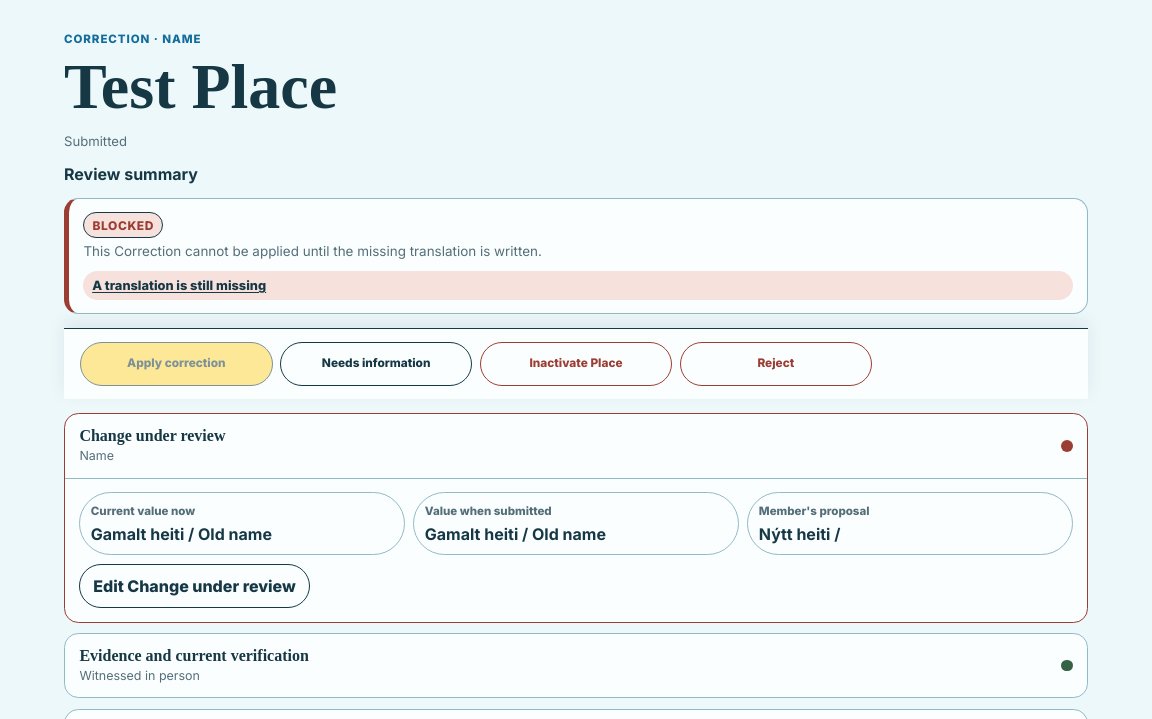
Test: CorrectionReviewPanel › blocks applying a half-translated name and prefills the flagged locale empty
Check: the button "Apply correction" is disabled, box [80,342,273,386]
Check: the link "A translation is still missing" is shown, box [92,278,266,293]
Click the button "Edit Change under review". click: (195, 586)
box: [79,564,310,608]
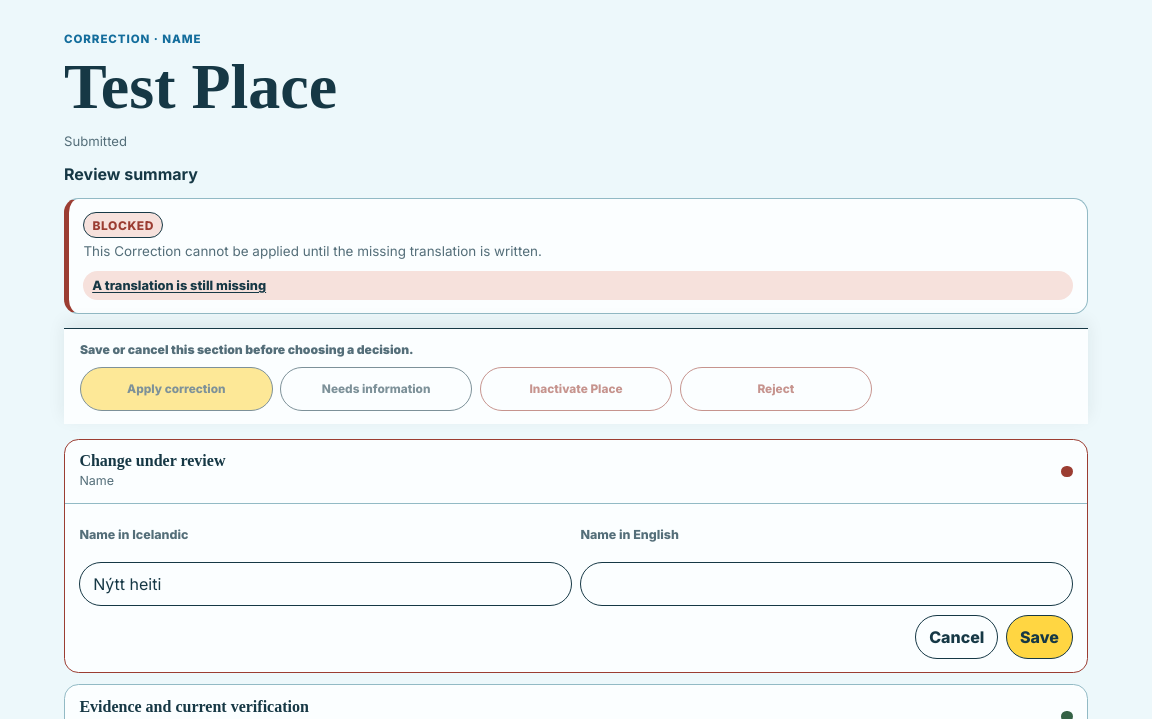
Check: the field named "fieldValueIs" holds "Nýtt heiti", box [79,562,572,606]
Check: the field named "fieldValueEn" is empty, box [580,562,1073,606]
